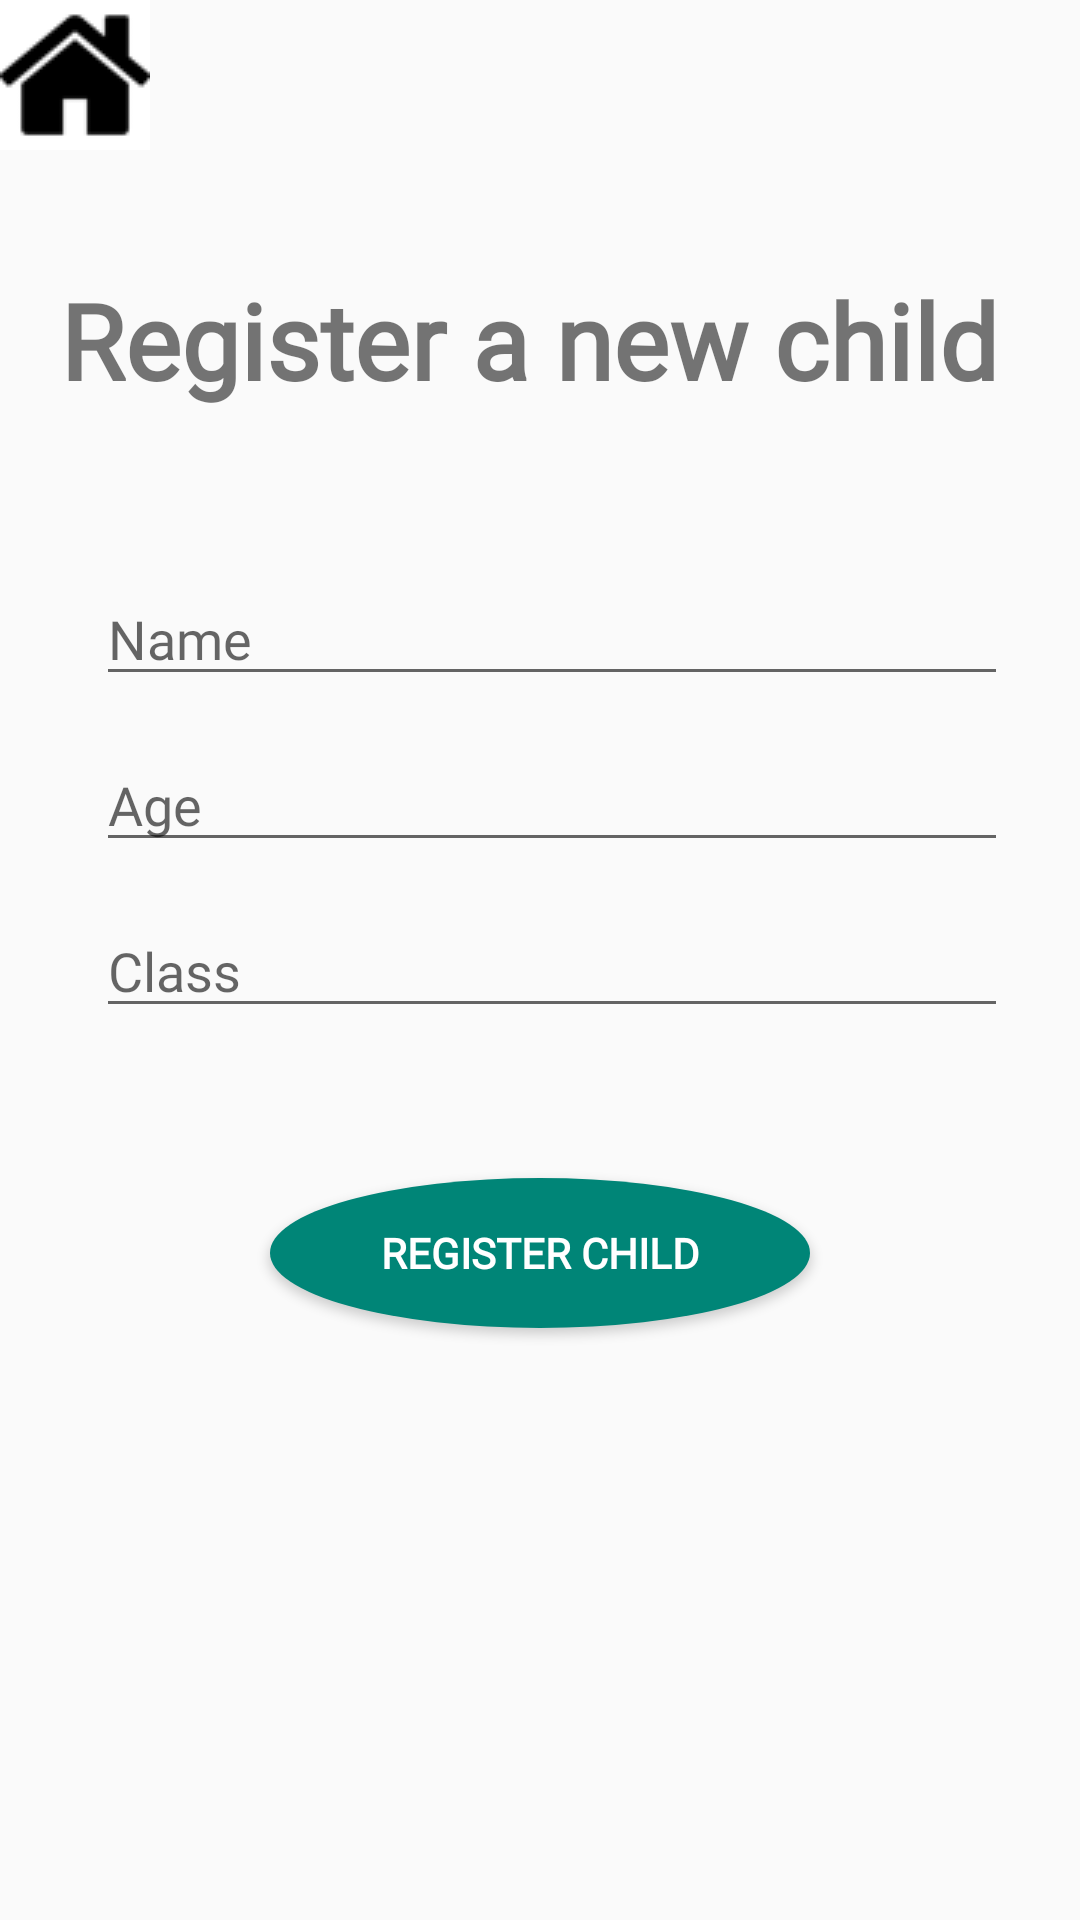

Where to tap for icons on this 1080w x 1920h app screen, as (x=x, y=y):
home: (x=75, y=75)
